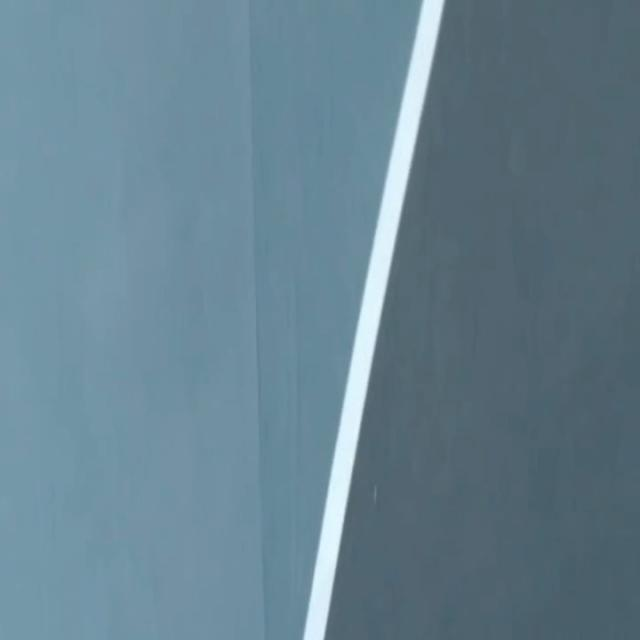left: (302, 0, 444, 639)
